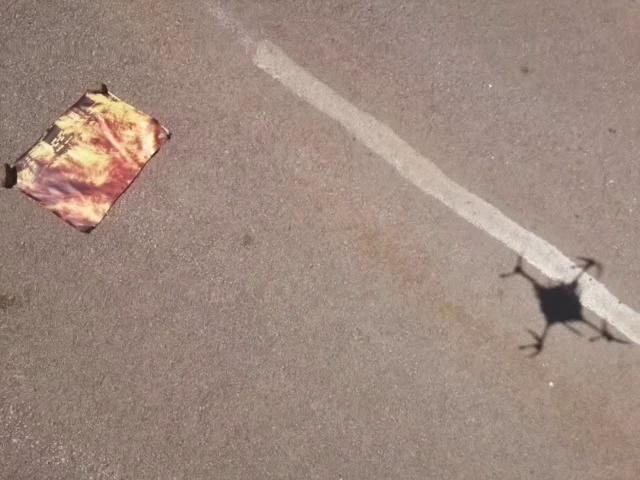fire-poster: (2, 81, 172, 236)
